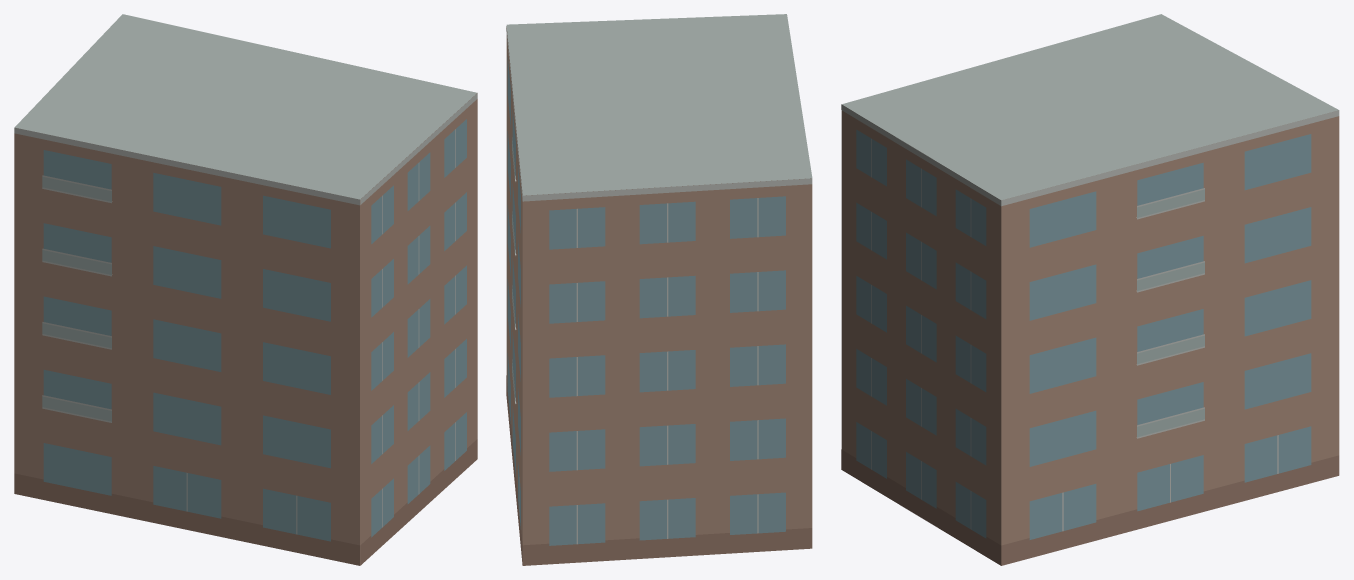
The model's file is survey-upis-32917774.glb.
3 renders of one model, left to right at view 1: azimuth 30°, elevation 25°; view 2: azimuth 150°, elevation 25°; view 3: azimuth 270°, elevation 25°, orthographic.
Visible parts, largest first — view 1: survey-upis-32917774.tmp; view 2: survey-upis-32917774.tmp; view 3: survey-upis-32917774.tmp.
Boxes of the visible parts, x1=… form: survey-upis-32917774.tmp: x1=14, y1=14, x2=477, y2=565; survey-upis-32917774.tmp: x1=506, y1=14, x2=812, y2=565; survey-upis-32917774.tmp: x1=841, y1=14, x2=1339, y2=565.
Bounding box in the file's own units: 16.69 × 15.25 × 18.84.
